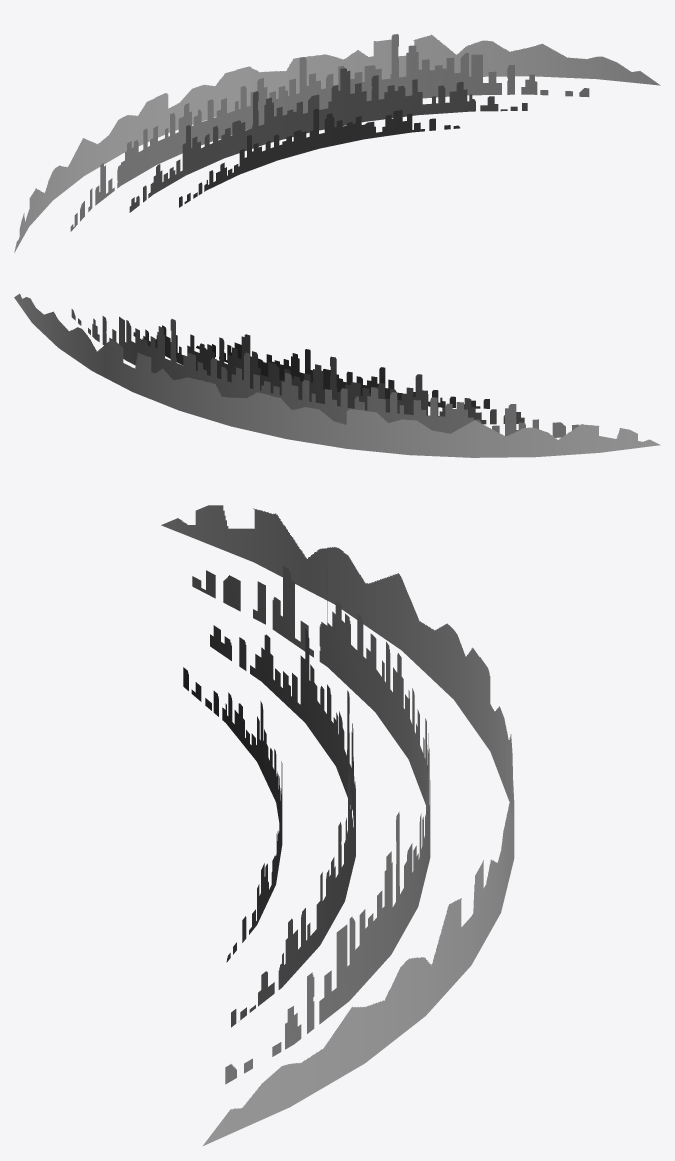
File: bg-skyline.glb
The picture shows the model from 3 angles, top to bottom: view 1: azimuth 30°, elevation 25°; view 2: azimuth 150°, elevation 25°; view 3: azimuth 270°, elevation 25°; orthographic projection. The views are drawn at different scales.
Visible parts, largest first — view 1: SM_Env_Skyline_03, SM_Env_Skyline_04, SM_Env_Skyline_02, SM_Env_Skyline_01; view 2: SM_Env_Skyline_03, SM_Env_Skyline_04, SM_Env_Skyline_02, SM_Env_Skyline_01; view 3: SM_Env_Skyline_03, SM_Env_Skyline_04, SM_Env_Skyline_02, SM_Env_Skyline_01.
Part boxes in pixels (x1=…): SM_Env_Skyline_03: x1=14, y1=34, x2=660, y2=252; SM_Env_Skyline_04: x1=70, y1=34, x2=589, y2=231; SM_Env_Skyline_02: x1=129, y1=68, x2=527, y2=212; SM_Env_Skyline_01: x1=179, y1=108, x2=460, y2=207; SM_Env_Skyline_03: x1=14, y1=293, x2=660, y2=457; SM_Env_Skyline_04: x1=71, y1=309, x2=579, y2=437; SM_Env_Skyline_02: x1=133, y1=325, x2=524, y2=424; SM_Env_Skyline_01: x1=196, y1=342, x2=489, y2=408; SM_Env_Skyline_03: x1=161, y1=505, x2=514, y2=1145; SM_Env_Skyline_04: x1=192, y1=564, x2=430, y2=1084; SM_Env_Skyline_02: x1=210, y1=625, x2=355, y2=1027; SM_Env_Skyline_01: x1=183, y1=667, x2=282, y2=962.
Size of the model in its own units: 329 by 38.78 by 78.96.
Materials: 1 (1 with a texture image).
